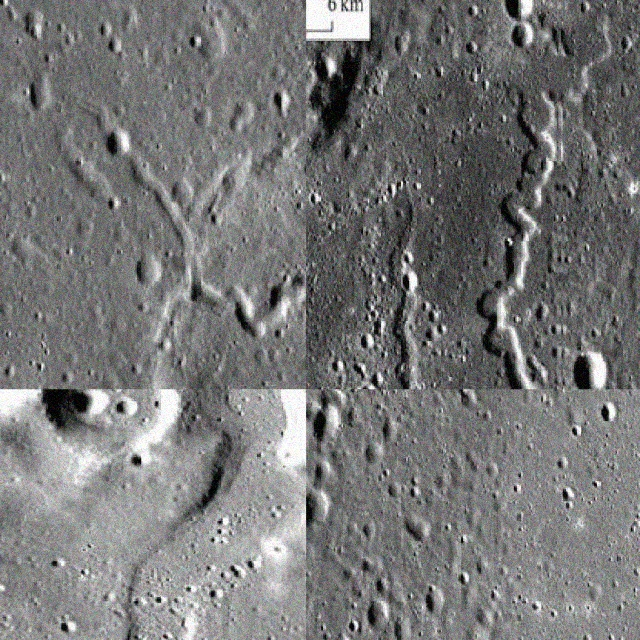crater: (0, 0, 305, 388), (108, 446, 304, 639), (472, 90, 578, 388), (306, 389, 443, 488), (388, 217, 454, 388)
